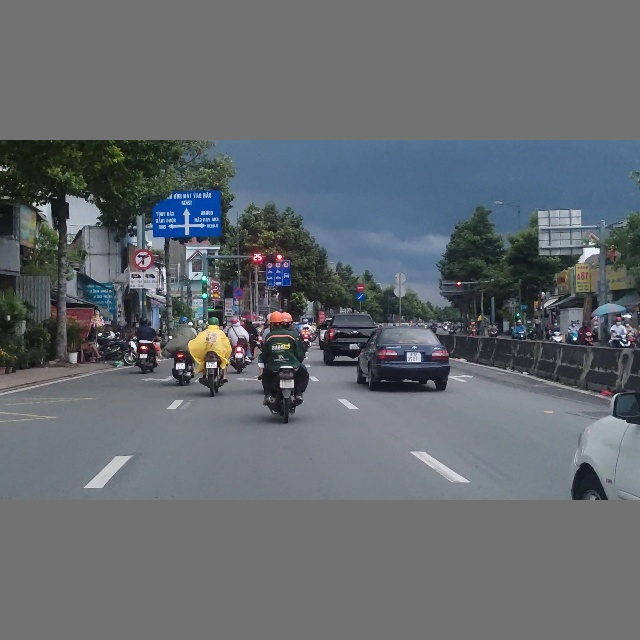P.102: (356, 283, 365, 291)
P.127*60: (275, 262, 281, 268), (267, 262, 273, 268), (283, 262, 289, 267)
P.131a: (234, 288, 244, 298)
P.137: (133, 249, 154, 270)
R.302a: (356, 293, 365, 301)
R.415a: (267, 268, 291, 286)
